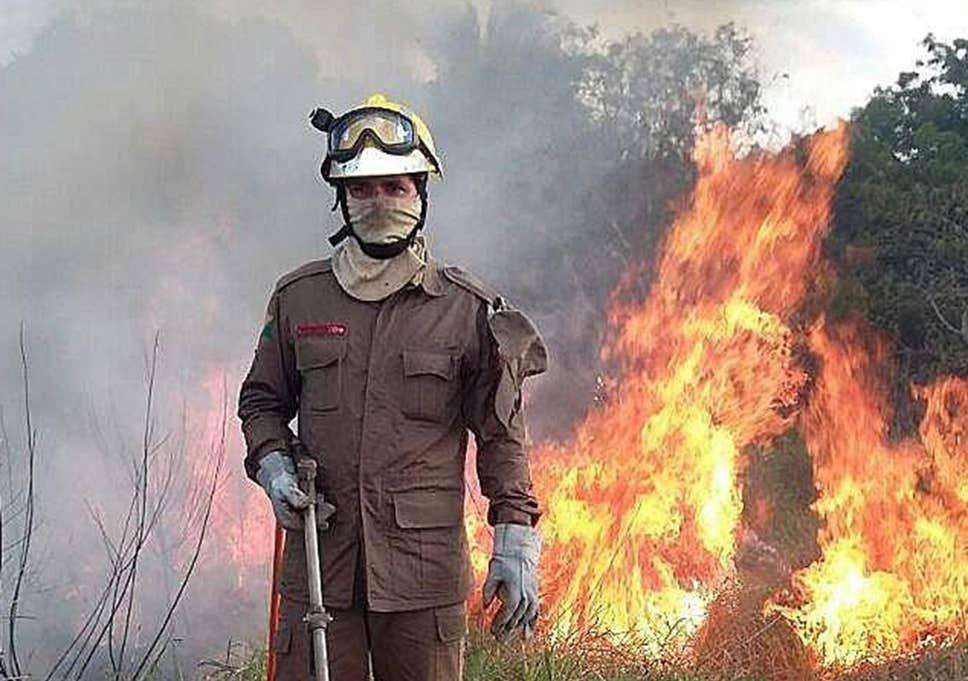victim: (229, 92, 550, 676)
